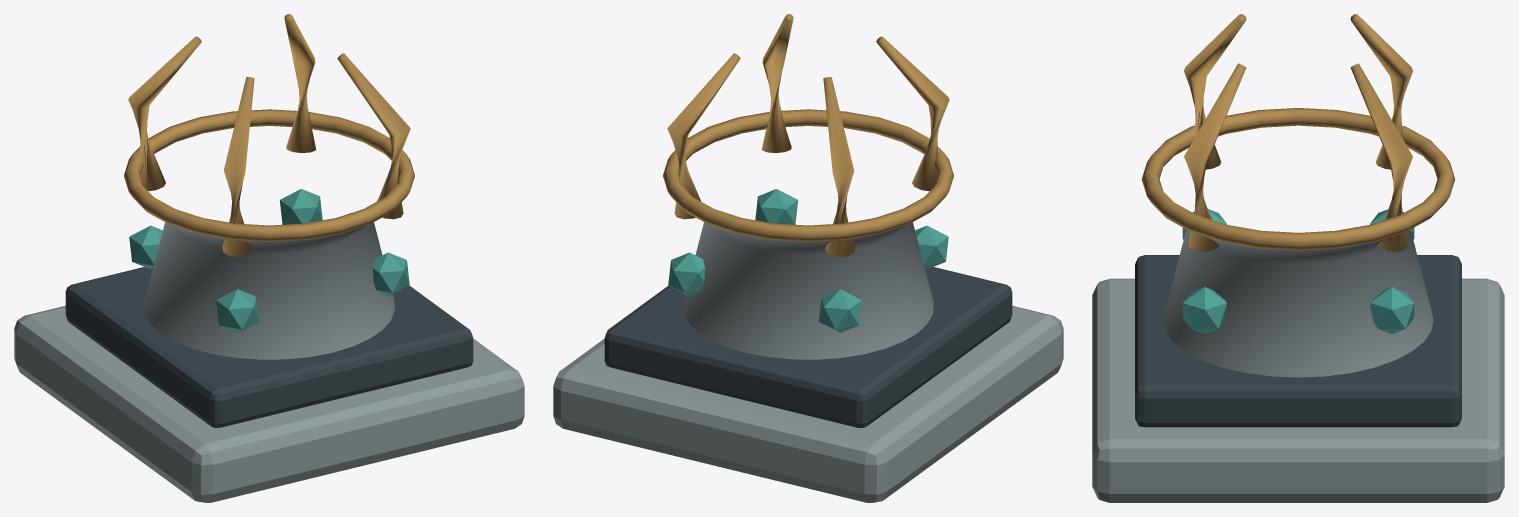
The model's file is SummoningAltar.glb.
3 views of the same model, side by side, from view 1: azimuth 30°, elevation 25°; view 2: azimuth 150°, elevation 25°; view 3: azimuth 270°, elevation 25° (orthographic). The views are drawn at different scales.
Parts seen in each view (by area): view 1: SummoningAltar; view 2: SummoningAltar; view 3: SummoningAltar.
Part boxes in pixels (box(x1,y1,x2,y2)): SummoningAltar: box(14, 14, 524, 502); SummoningAltar: box(553, 14, 1063, 502); SummoningAltar: box(1092, 14, 1504, 502).
Bounding box in the file's own units: 1.06 × 1.09 × 1.06.
